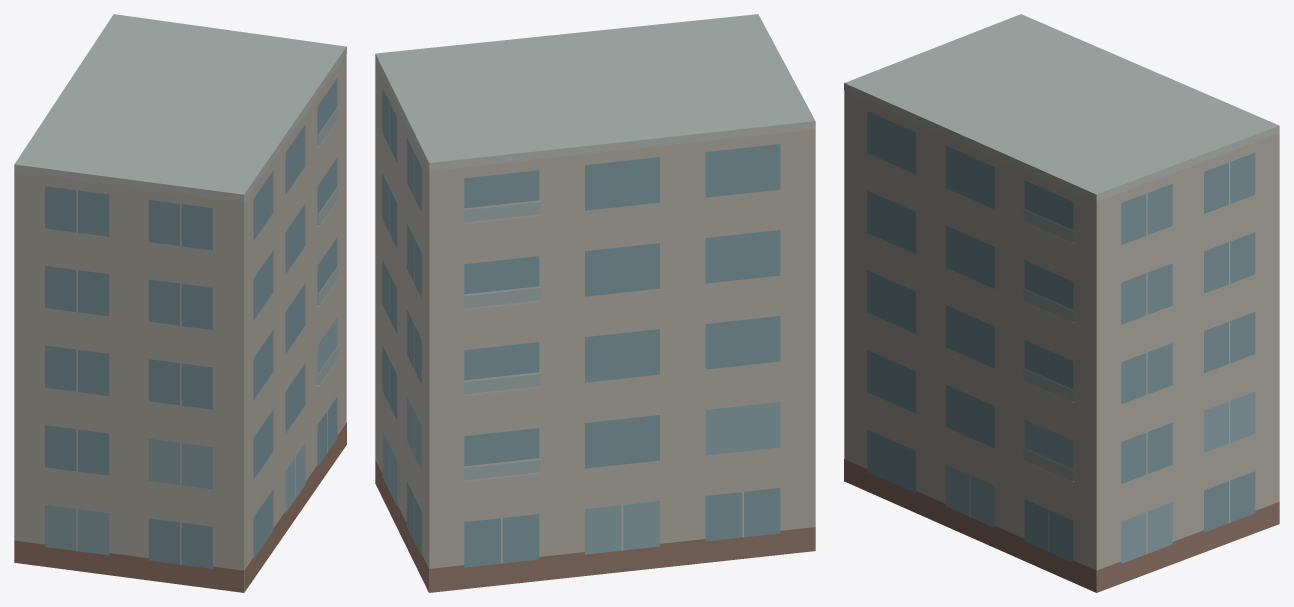
File: survey-upis-32650846.glb
3 renders of one model, left to right at view 1: azimuth 30°, elevation 25°; view 2: azimuth 150°, elevation 25°; view 3: azimuth 270°, elevation 25°, orthographic. The views are drawn at different scales.
Parts seen in each view (by area): view 1: survey-upis-32650846.tmp; view 2: survey-upis-32650846.tmp; view 3: survey-upis-32650846.tmp.
Part boxes in pixels (x1,y1,x2,y2): survey-upis-32650846.tmp: [14, 14, 346, 592]; survey-upis-32650846.tmp: [375, 14, 815, 592]; survey-upis-32650846.tmp: [844, 14, 1279, 592].
Bounding box in the file's own units: 12.75 × 13.1 × 12.99.
